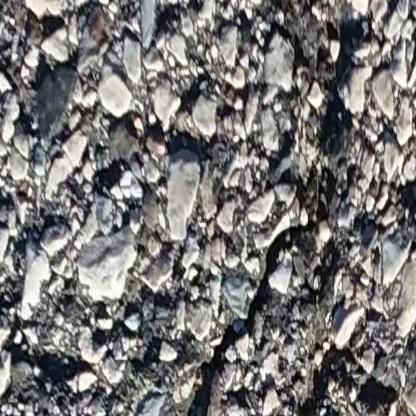Cracks: (175, 0, 416, 416), (387, 185, 416, 227)
